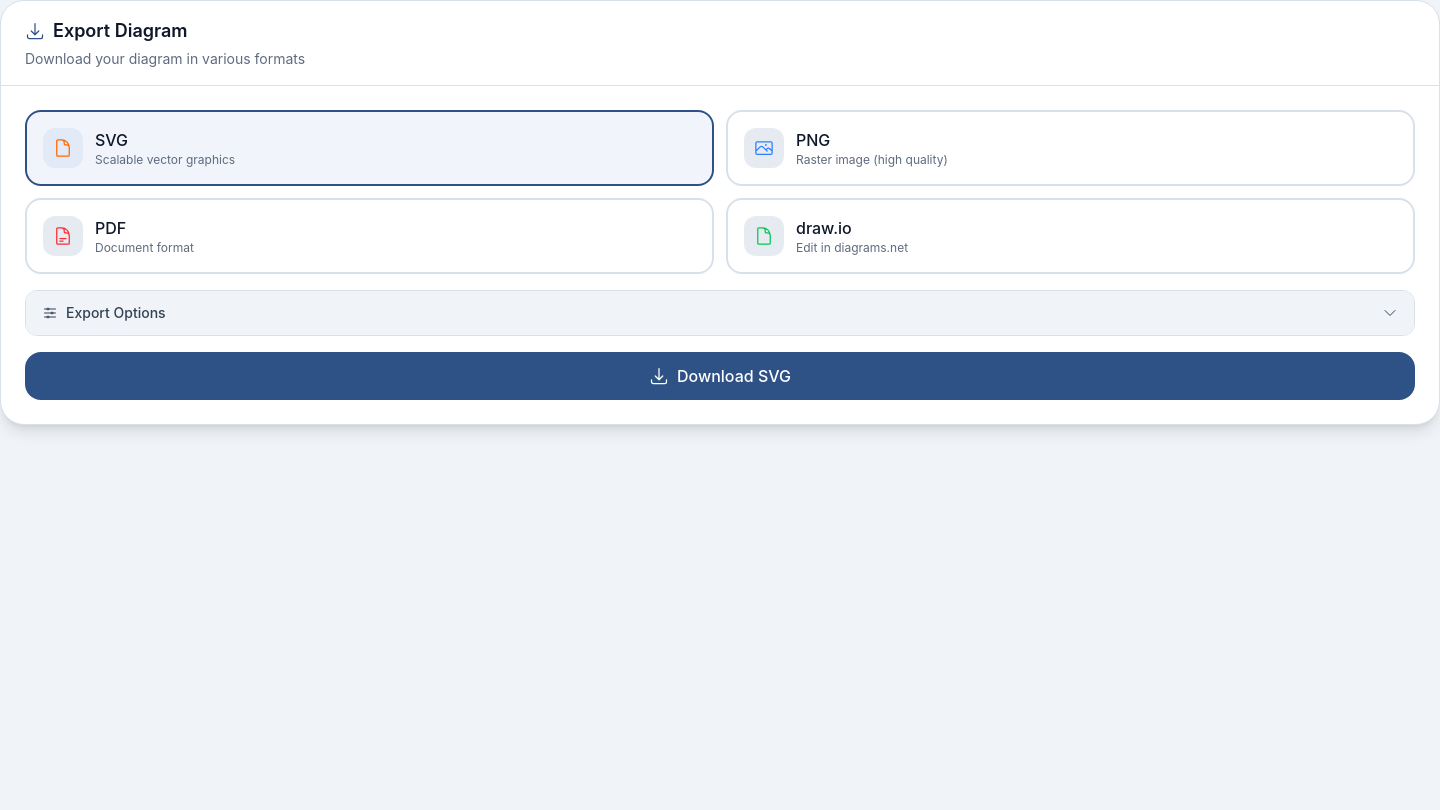
it: DiagramExportPanel › Export Options › shows options panel when expanded
The width and height of the screenshot is (1440, 810).
// Select PNG to see scale options
Click the text "PNG" at (813, 140), box [796, 130, 830, 150]
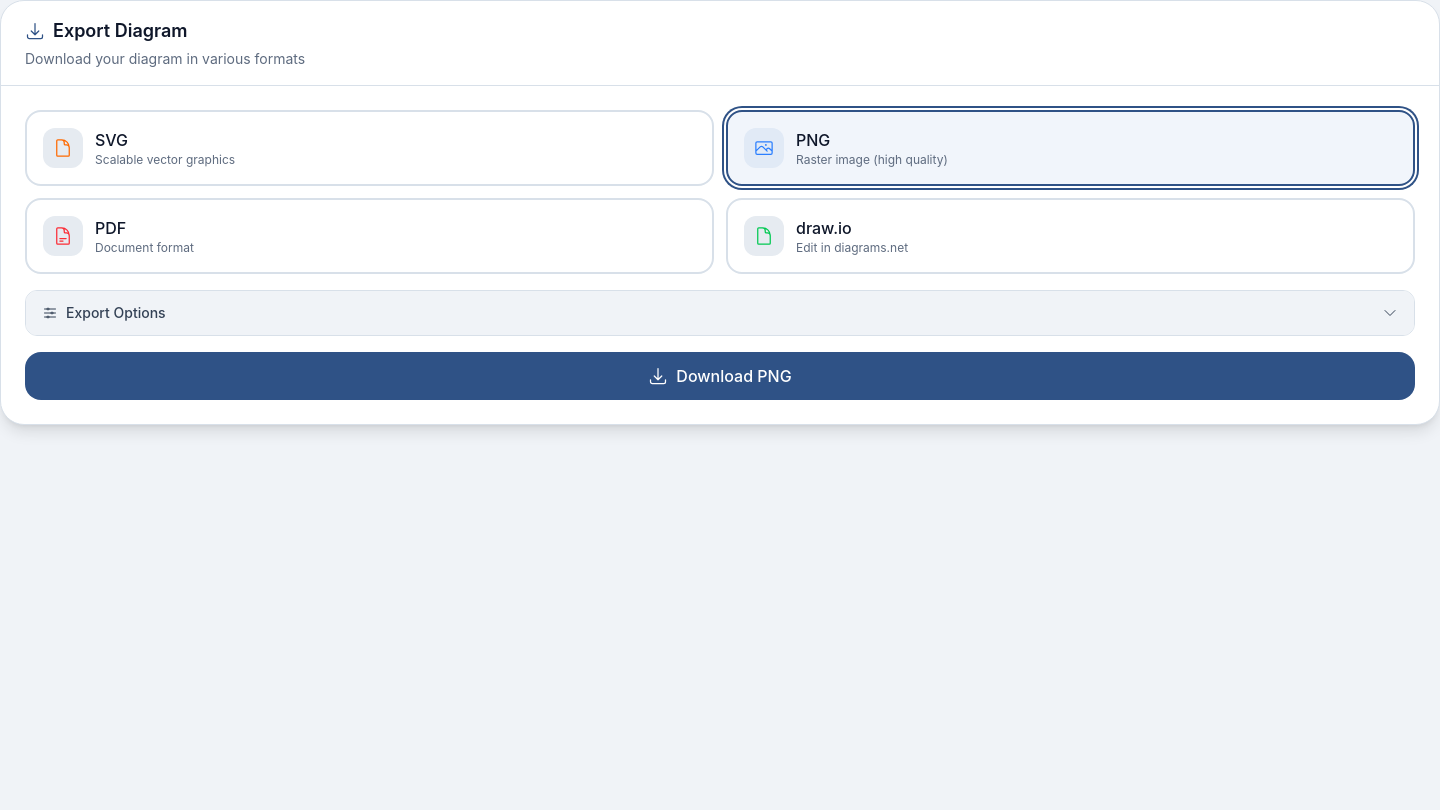
// Expand options
Click the button "Export Options" at (116, 312), box [26, 291, 1414, 335]
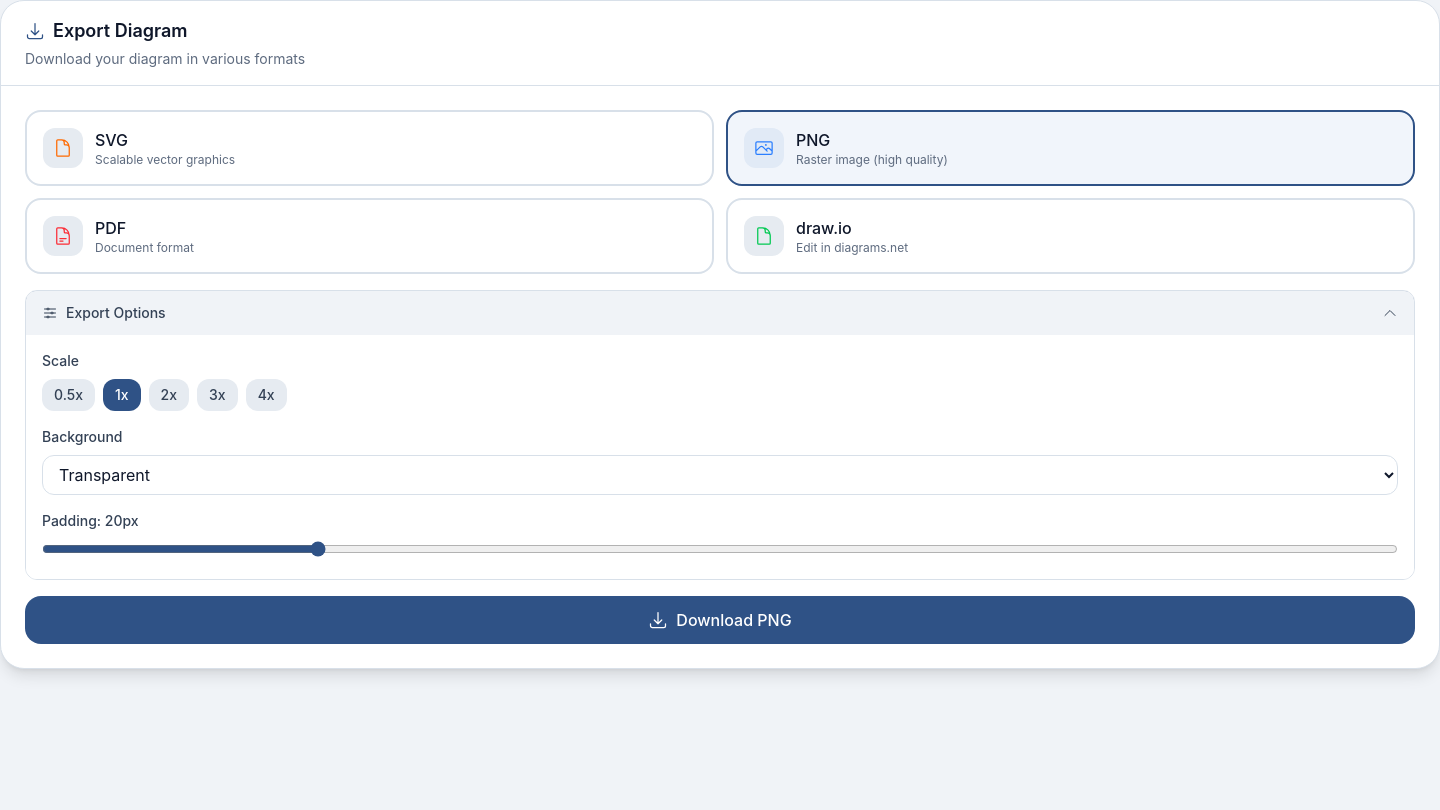
expect the text "Scale" is shown: met, box [42, 352, 79, 369]
